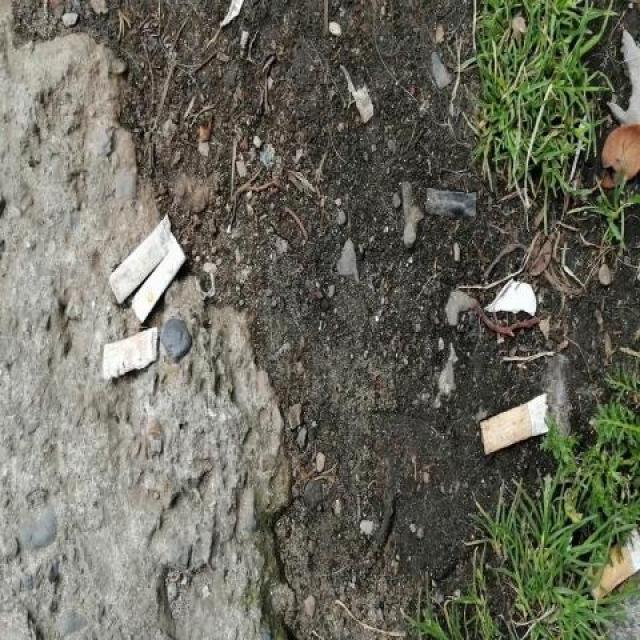non-organic waste: (107, 213, 173, 307), (477, 388, 552, 459), (128, 238, 188, 326), (581, 524, 640, 608), (100, 324, 164, 384)
